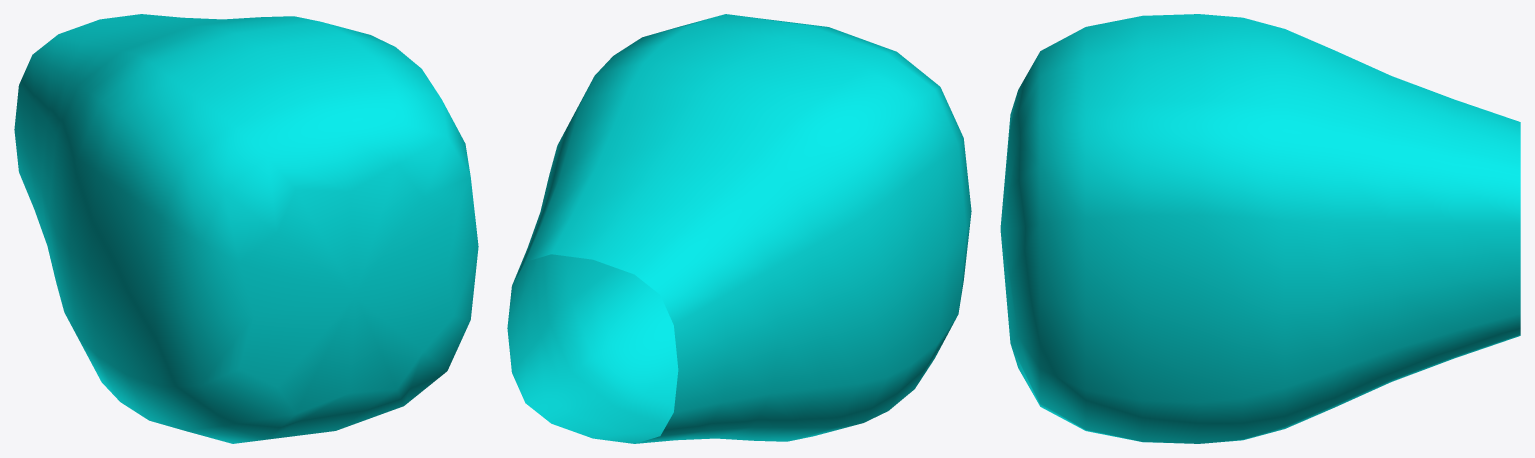
The model's file is Trou_de_ver_4_M.fbx.
The picture shows the model from 3 angles, left to right: view 1: azimuth 30°, elevation 25°; view 2: azimuth 150°, elevation 25°; view 3: azimuth 270°, elevation 25°; orthographic projection.
Visible parts, largest first — view 1: Tube; view 2: Tube; view 3: Tube.
Boxes of the visible parts, bbox=[...] form: Tube: bbox=[14, 14, 478, 443]; Tube: bbox=[507, 14, 971, 443]; Tube: bbox=[1000, 14, 1520, 443].
Bounding box in the file's own units: 952 × 952 × 1249.
